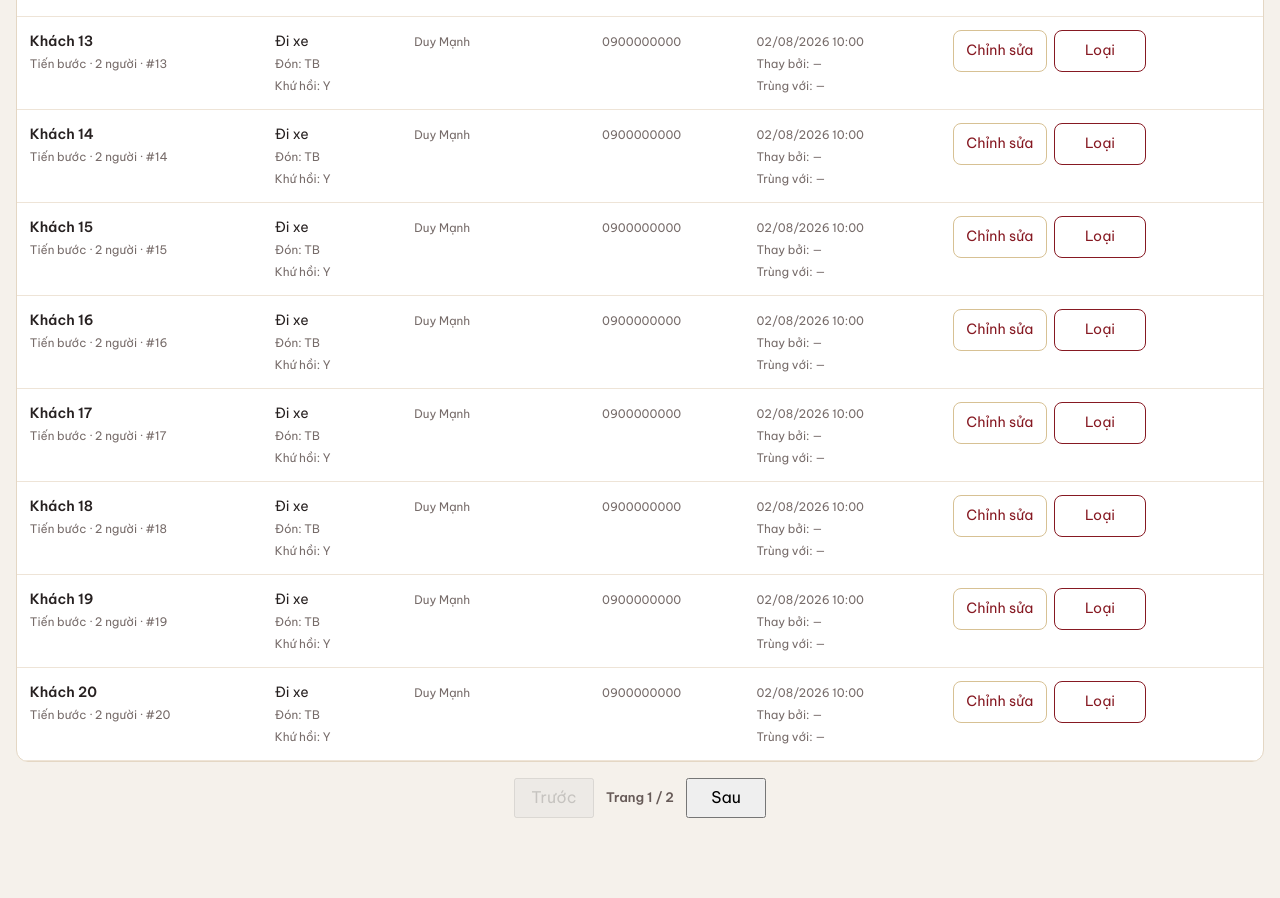
AdminComponent › paginates admin RSVP tables at twenty rows per page
The image size is (1280, 898).
(page scrolled)
What coordinates should you click on to do the following:
click the button with aria-label "Trang sau"
I would click on:
 (726, 798)
Its box is [686,778,766,818].
(page scrolled)
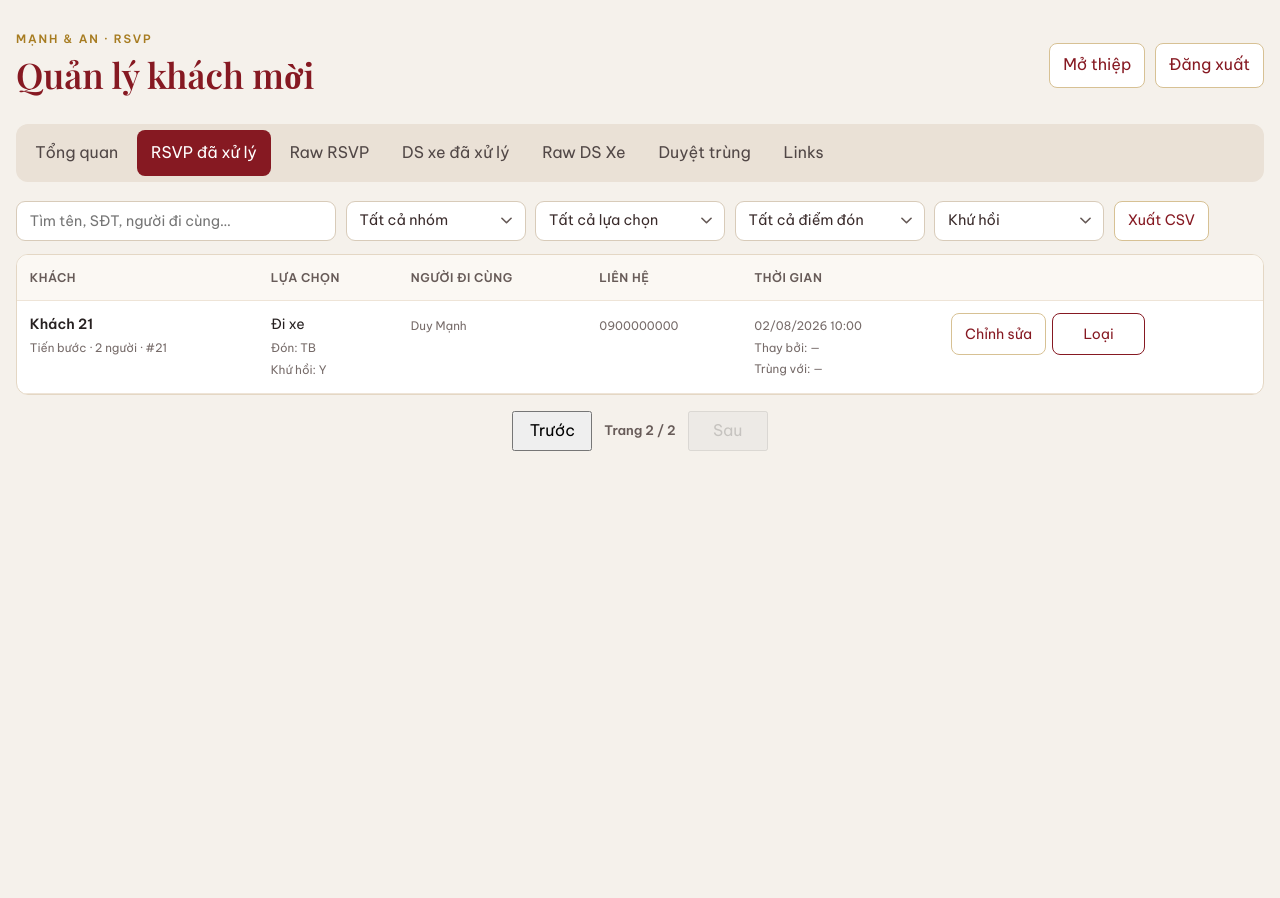
Expected: the row that starts with "Khách 21" is shown, [30,315,93,333]
Expected: the text "Trang 2 / 2" is shown, [604,420,676,441]
